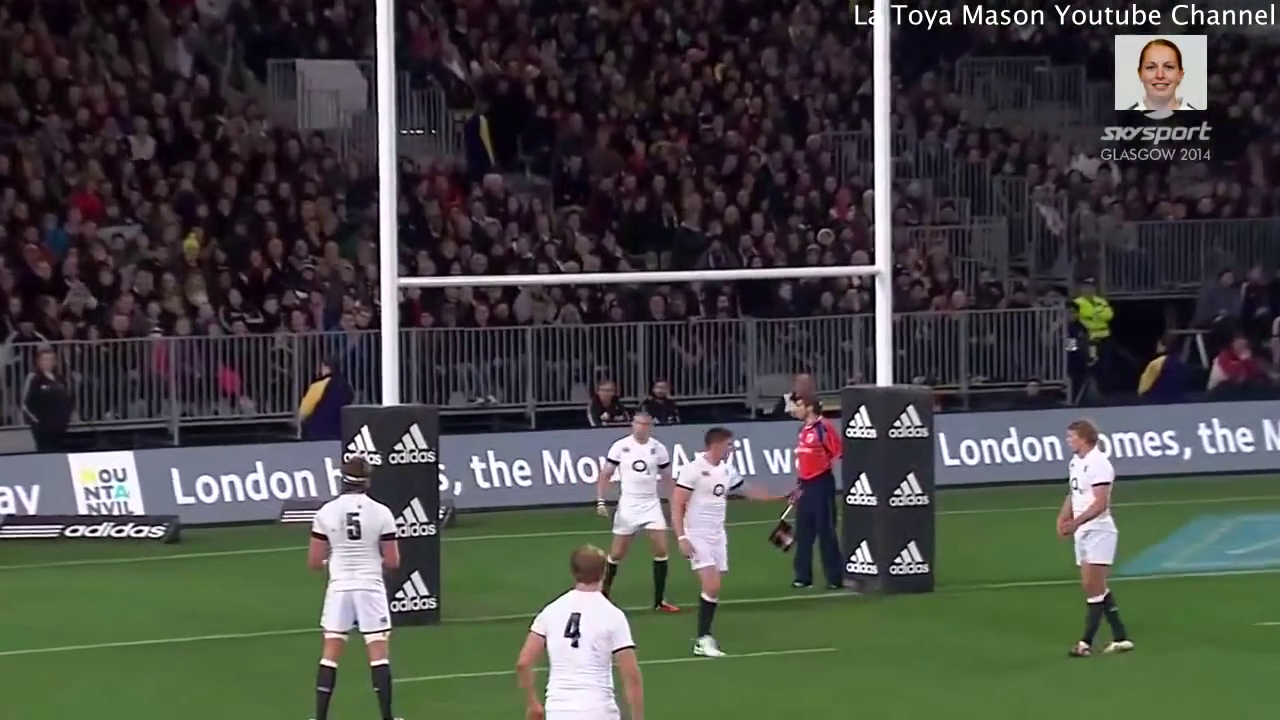player: (671, 424, 818, 660), (302, 455, 410, 720), (1045, 414, 1149, 668), (512, 542, 650, 720), (585, 402, 683, 619), (764, 396, 849, 595)
post: (332, 32, 958, 636)
